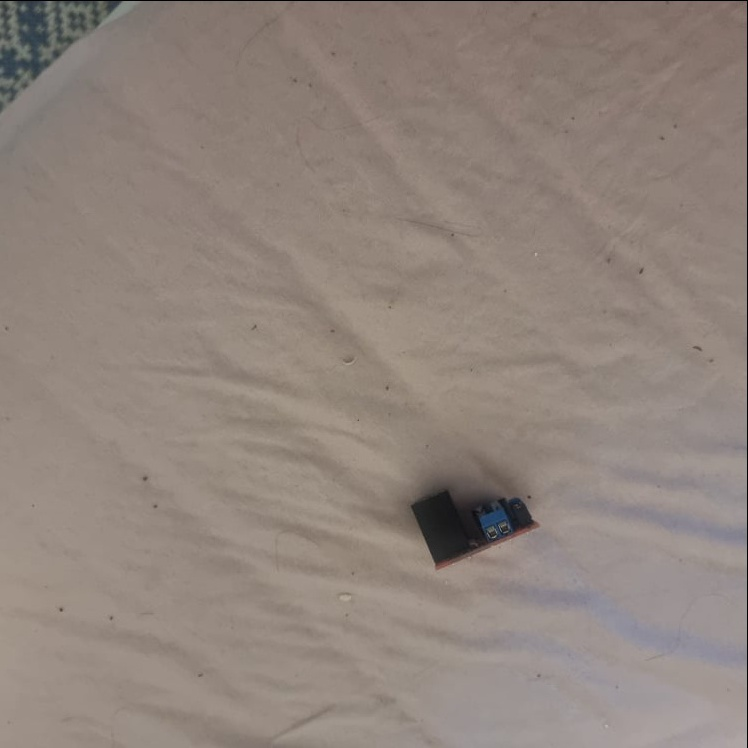MOTOR: (408, 482, 546, 571)
